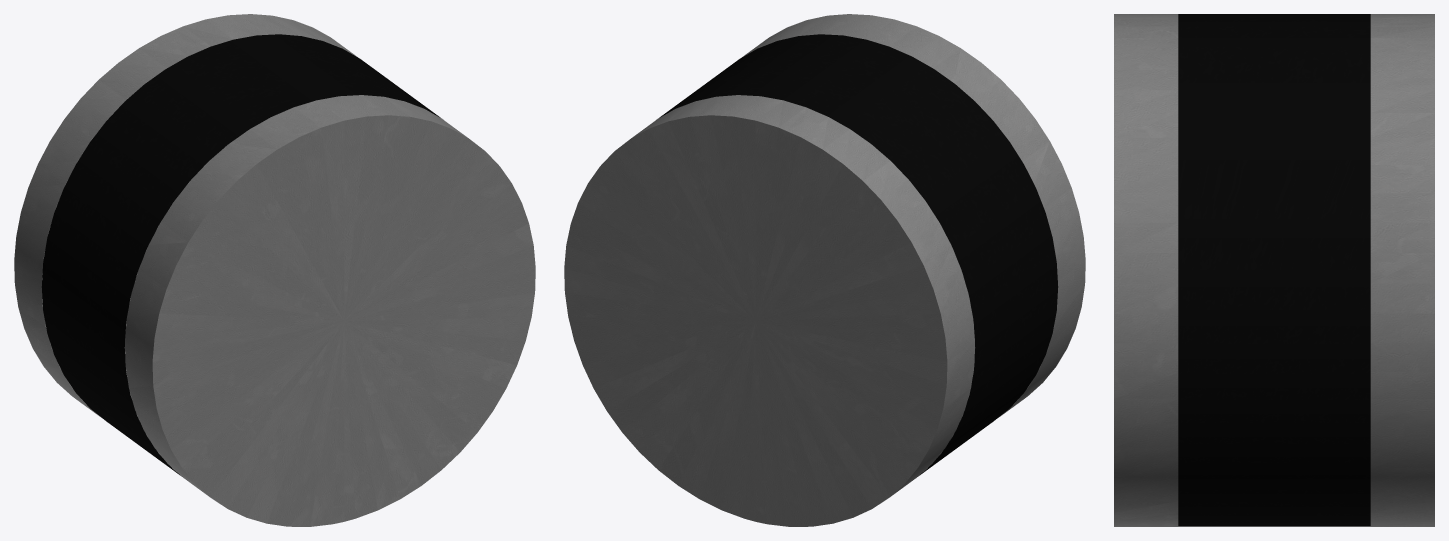
The model's file is lidar.glb.
The picture shows the model from 3 angles, left to right: view 1: azimuth 30°, elevation 25°; view 2: azimuth 150°, elevation 25°; view 3: azimuth 270°, elevation 25°; orthographic projection. The views are drawn at different scales.
Visible parts, largest first — view 1: lidar_design.SLDPRT; view 2: lidar_design.SLDPRT; view 3: lidar_design.SLDPRT.
Part boxes in pixels (bbox=[...]): lidar_design.SLDPRT: bbox=[14, 14, 535, 526]; lidar_design.SLDPRT: bbox=[564, 14, 1085, 526]; lidar_design.SLDPRT: bbox=[1114, 14, 1434, 526].
Bounding box in the file's own units: 0.04 × 0.04 × 0.025.
Materials: 3 (2 with a texture image).
